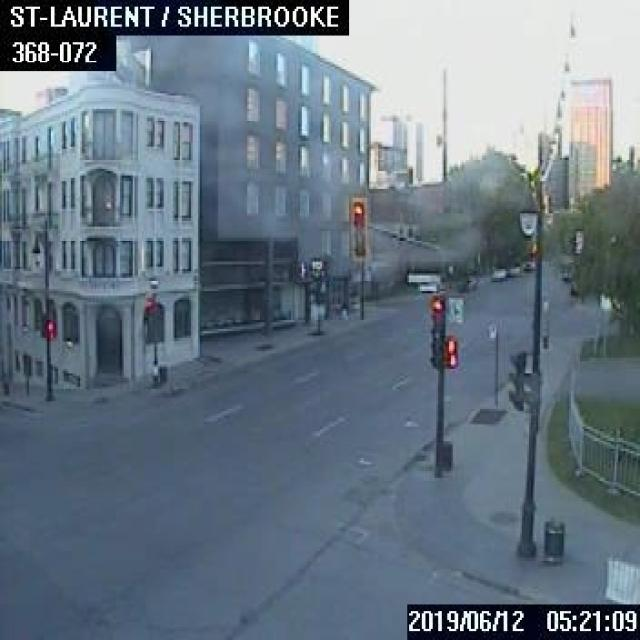vehicle: (458, 271, 476, 289), (491, 266, 504, 278), (522, 257, 534, 269), (506, 264, 520, 274)
